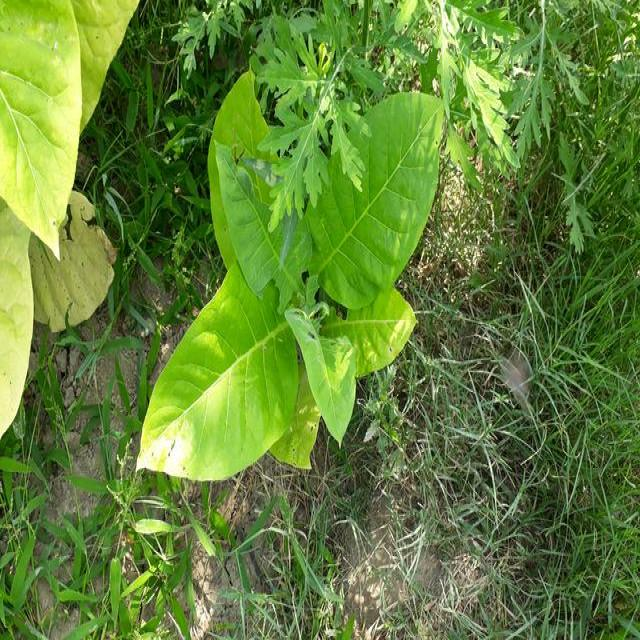crop: (154, 83, 440, 508), (0, 0, 125, 225), (4, 222, 36, 456)
